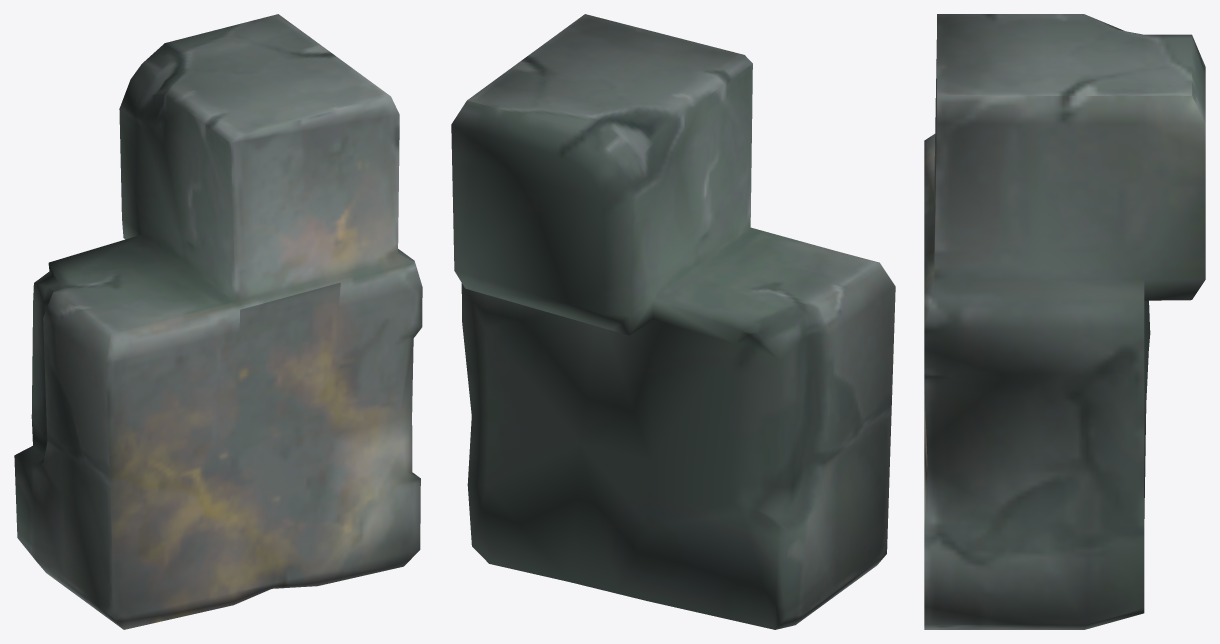
The model's file is Floor_Block_C.fbx.
The picture shows the model from 3 angles, left to right: view 1: azimuth 30°, elevation 25°; view 2: azimuth 150°, elevation 25°; view 3: azimuth 270°, elevation 25°; orthographic projection. The views are drawn at different scales.
Parts seen in each view (by area): view 1: Floor_Block_C; view 2: Floor_Block_C; view 3: Floor_Block_C.
Part boxes in pixels (bbox=[...]): Floor_Block_C: bbox=[14, 14, 422, 629]; Floor_Block_C: bbox=[451, 14, 895, 629]; Floor_Block_C: bbox=[924, 14, 1205, 629].
Size of the model in its own units: 586 by 828 by 398.
